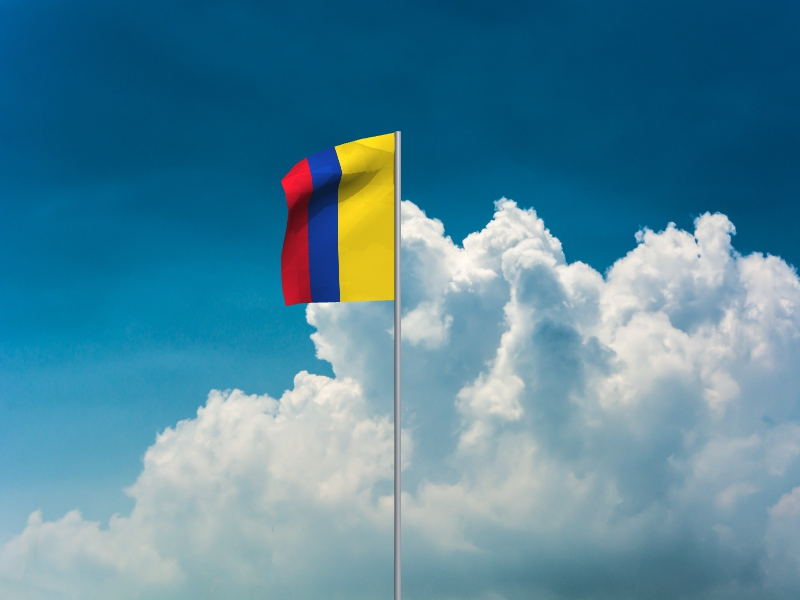co: (280, 134, 395, 307)
